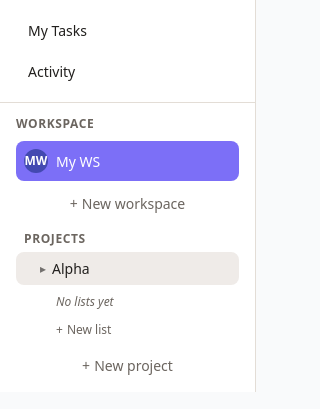
Test case: Sidebar — nested list tree under active project › shows "+ New list" button and clicking it reveals the inline input
Click the button with test id "sidebar-new-list-button" at [128, 330], box [16,317,239,343]
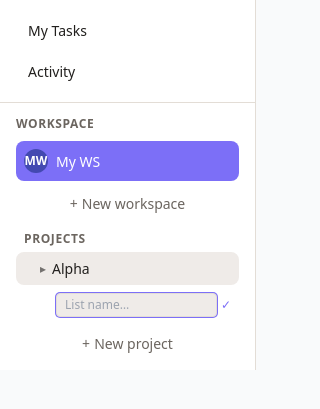
Now the field with test id "sidebar-new-list-input" is shown, box [56,293,217,317]
